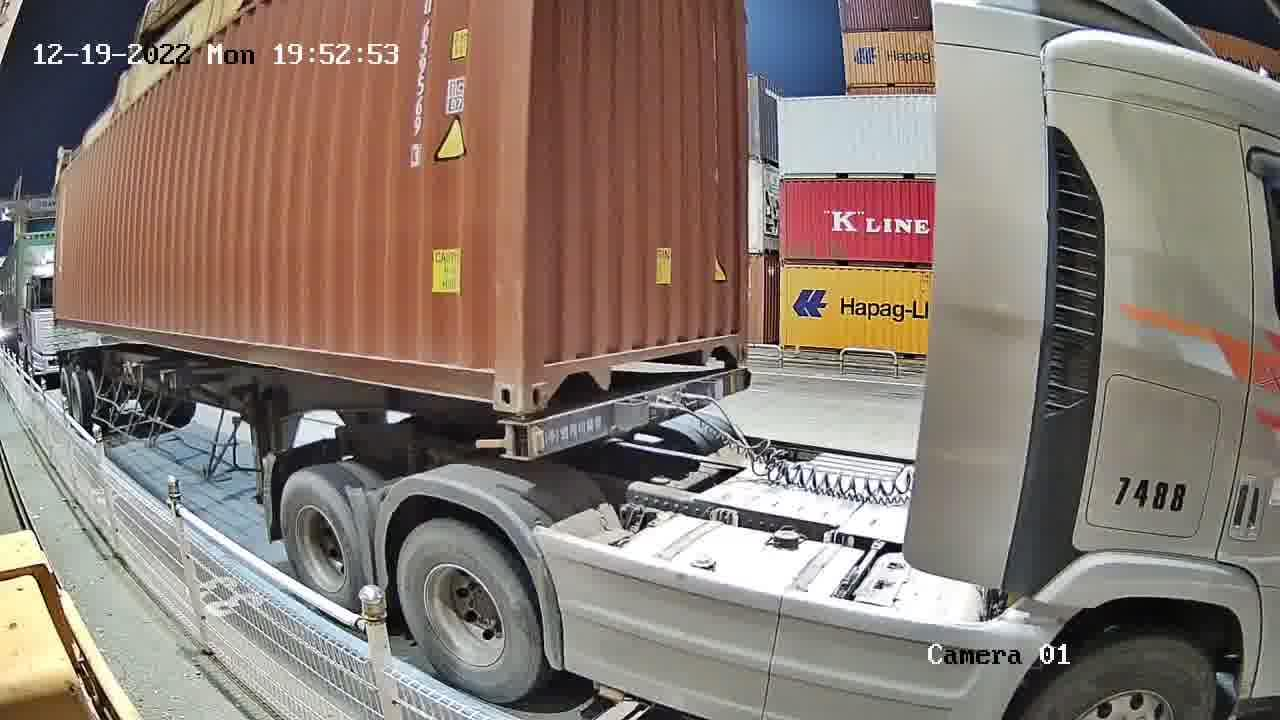Chassis: (498, 367, 748, 459)
Cone: (497, 412, 534, 458)
Hole_L: (521, 349, 572, 410)
Hole_R: (456, 349, 520, 409), (709, 320, 749, 363)
Tire: (399, 519, 537, 702), (280, 474, 362, 605)
